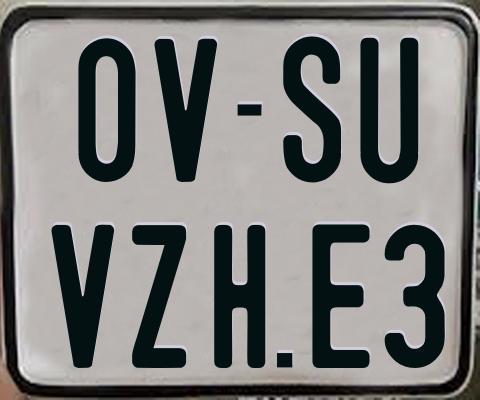0: (76, 37, 136, 186)
3: (381, 225, 443, 374)
E: (311, 224, 375, 373)
H: (211, 223, 264, 367)
S: (283, 36, 346, 187)
U: (359, 37, 421, 184)
V: (153, 38, 222, 181), (49, 224, 114, 367)
Z: (132, 223, 186, 366)
